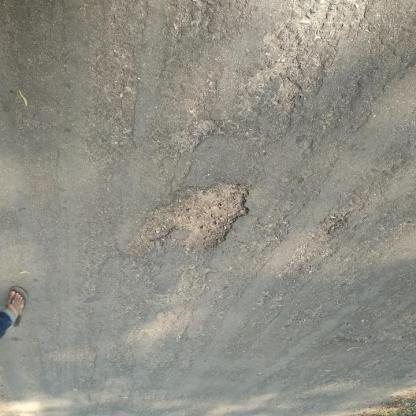pothole: (133, 180, 254, 256)
